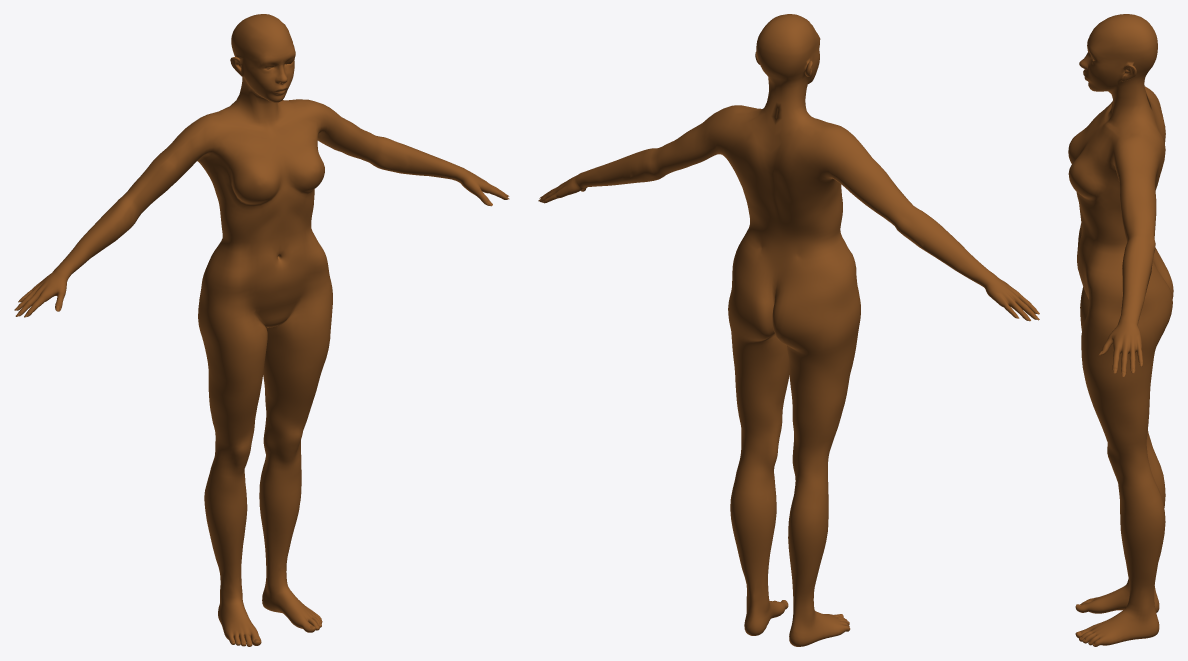
File: female_S_5.glb
The picture shows the model from 3 angles, left to right: view 1: azimuth 30°, elevation 25°; view 2: azimuth 150°, elevation 25°; view 3: azimuth 270°, elevation 25°; orthographic projection.
Visible parts, largest first — view 1: Body; view 2: Body; view 3: Body.
Boxes of the visible parts, box(x1,y1,x2,y2) form: Body: box(17, 14, 508, 646); Body: box(539, 14, 1037, 646); Body: box(1068, 14, 1173, 646).
Size of the model in its own units: 1.58 by 1.85 by 0.2894.
